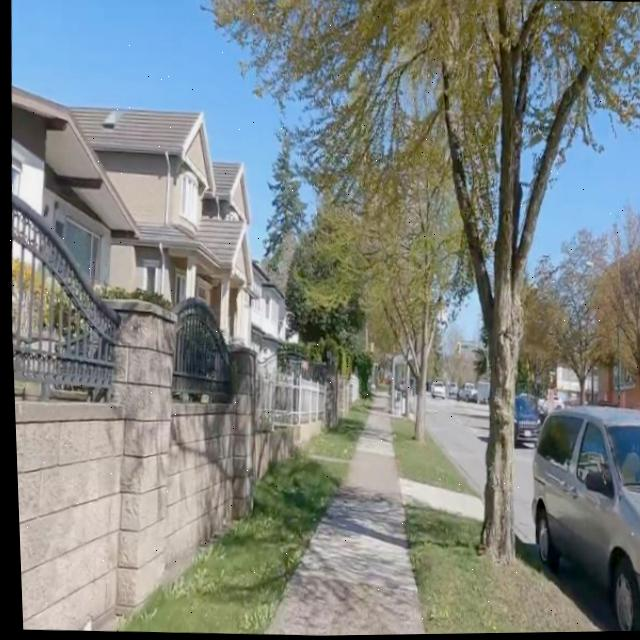Automobile: (527, 407, 640, 633), (511, 394, 536, 444), (454, 384, 474, 403), (428, 382, 441, 399)
Road: (423, 400, 482, 497), (510, 446, 529, 545)
Sidewalk: (261, 411, 416, 636)
